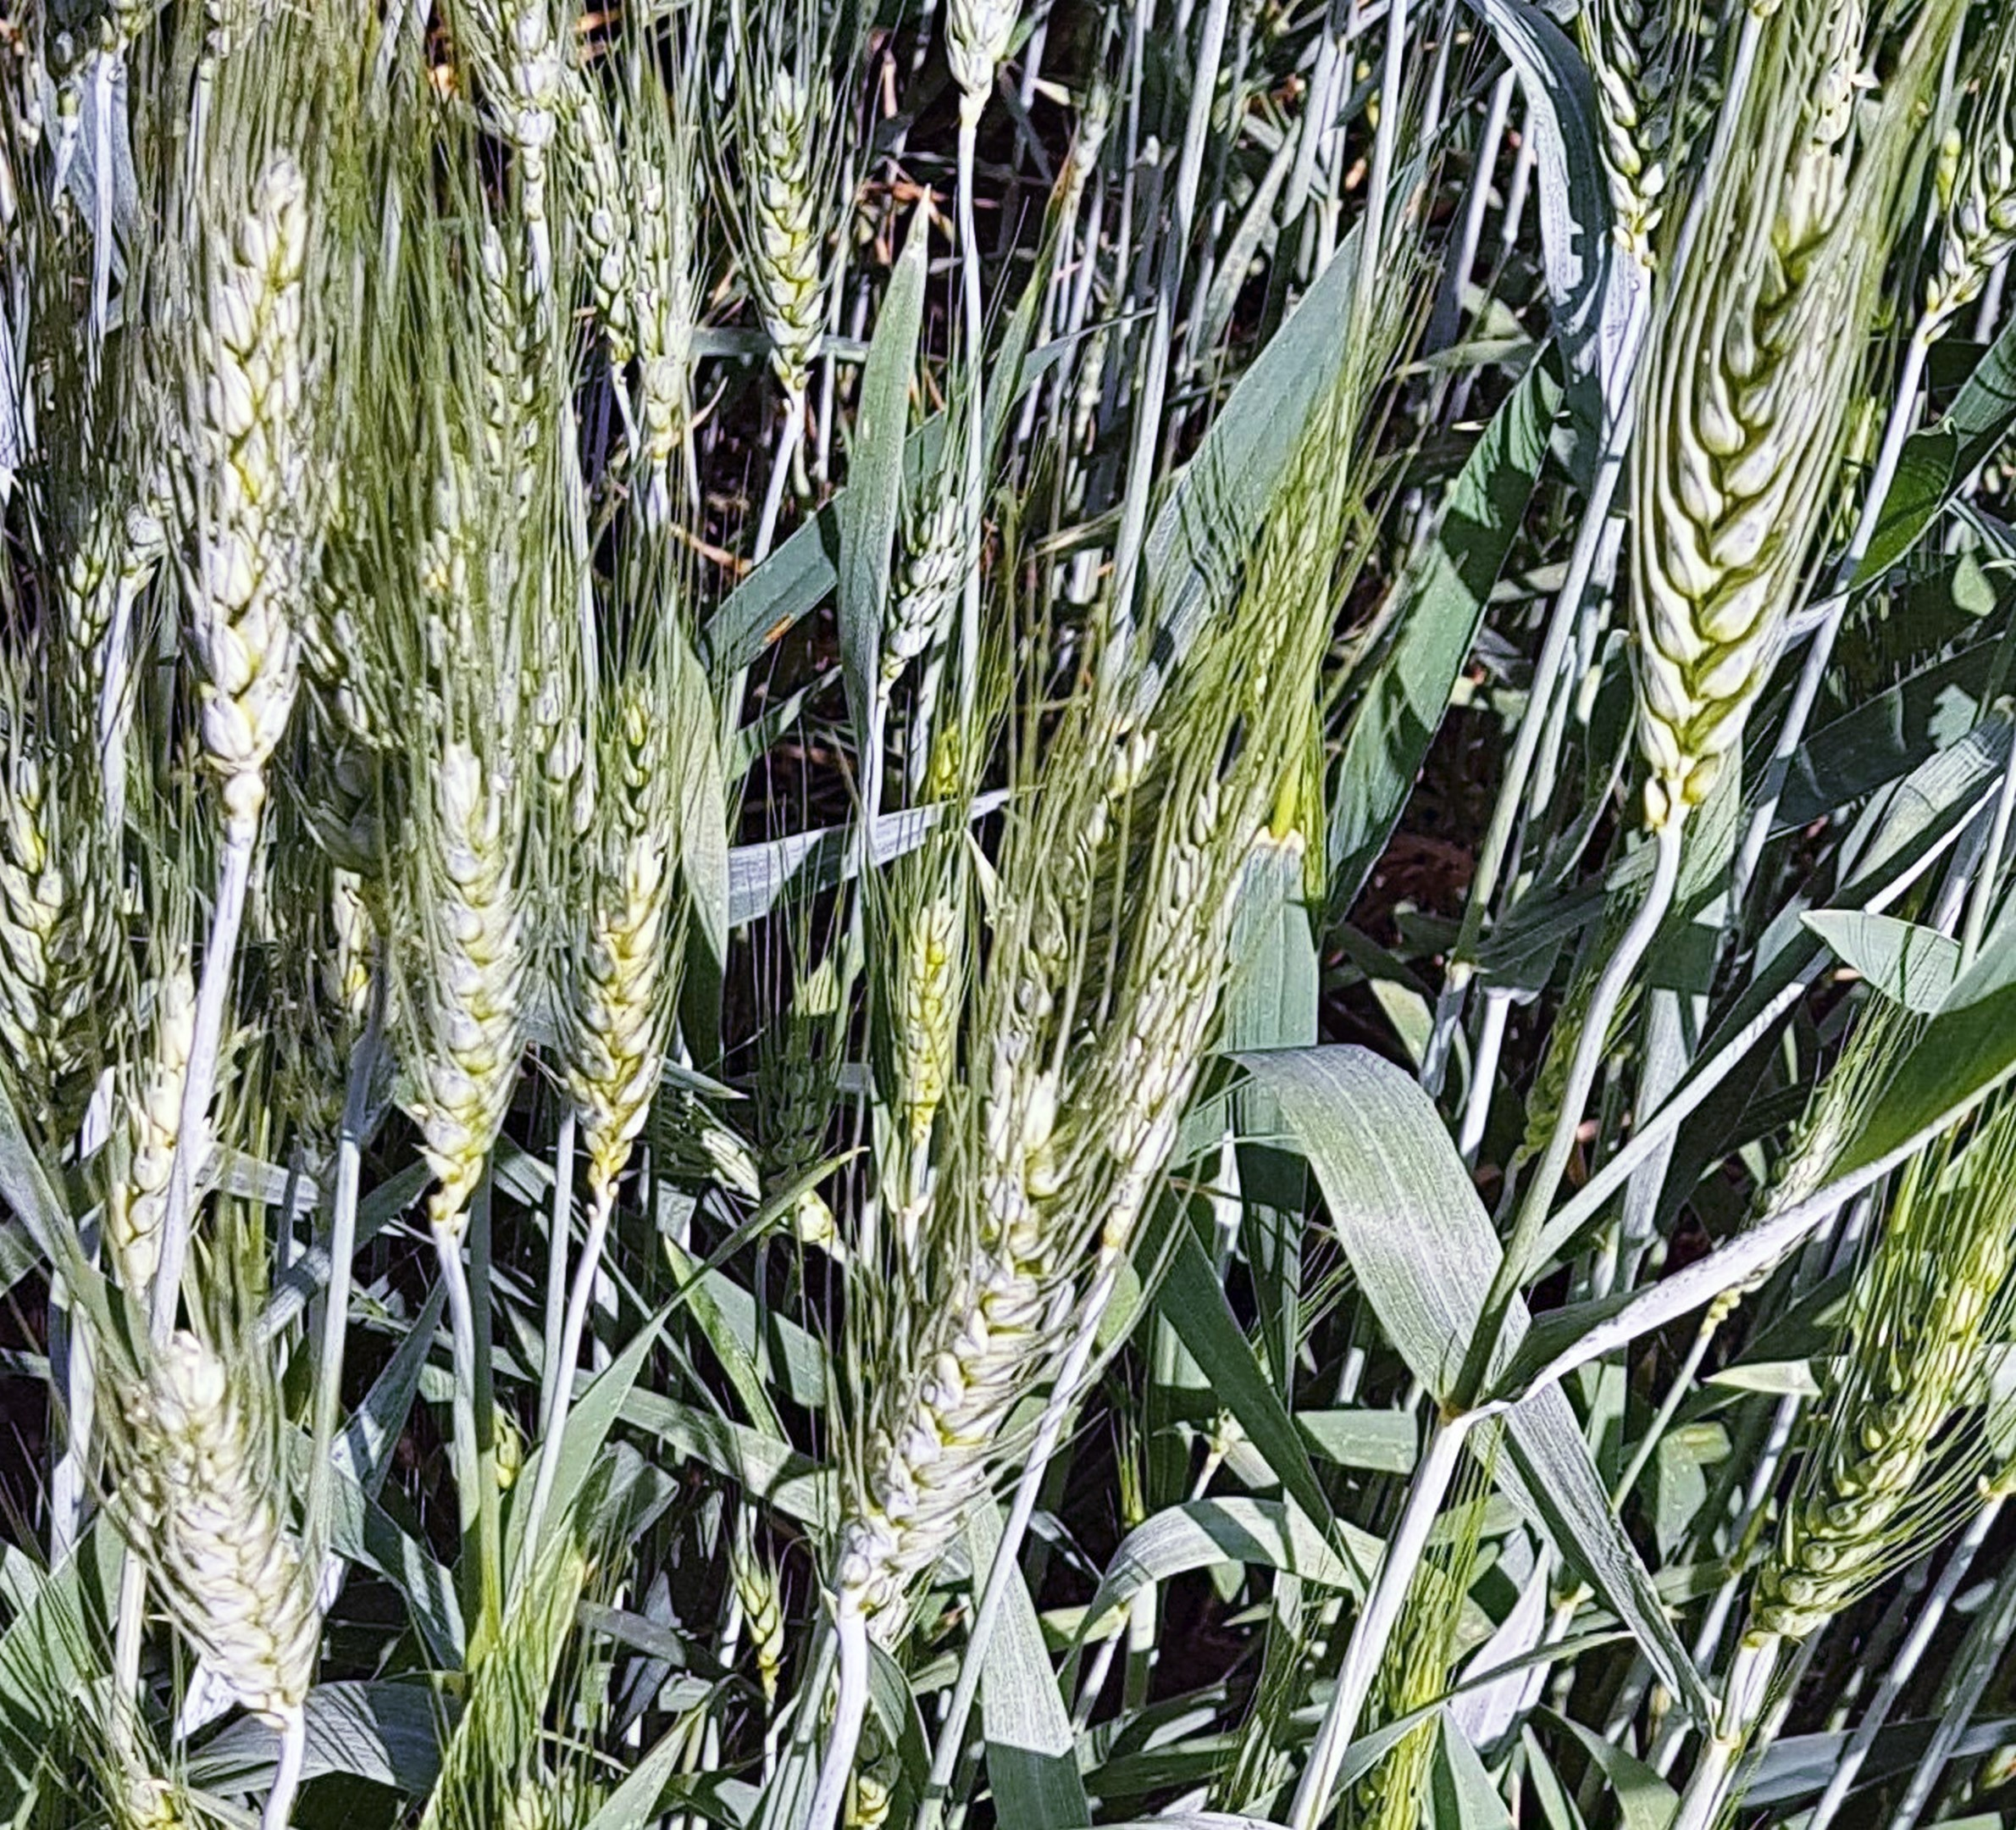Healthy Wheat: (1582, 202, 1881, 838), (407, 746, 701, 1226), (810, 1159, 1085, 1647), (1746, 1192, 2016, 1660), (88, 1315, 381, 1730), (156, 169, 323, 771), (725, 46, 862, 372)
